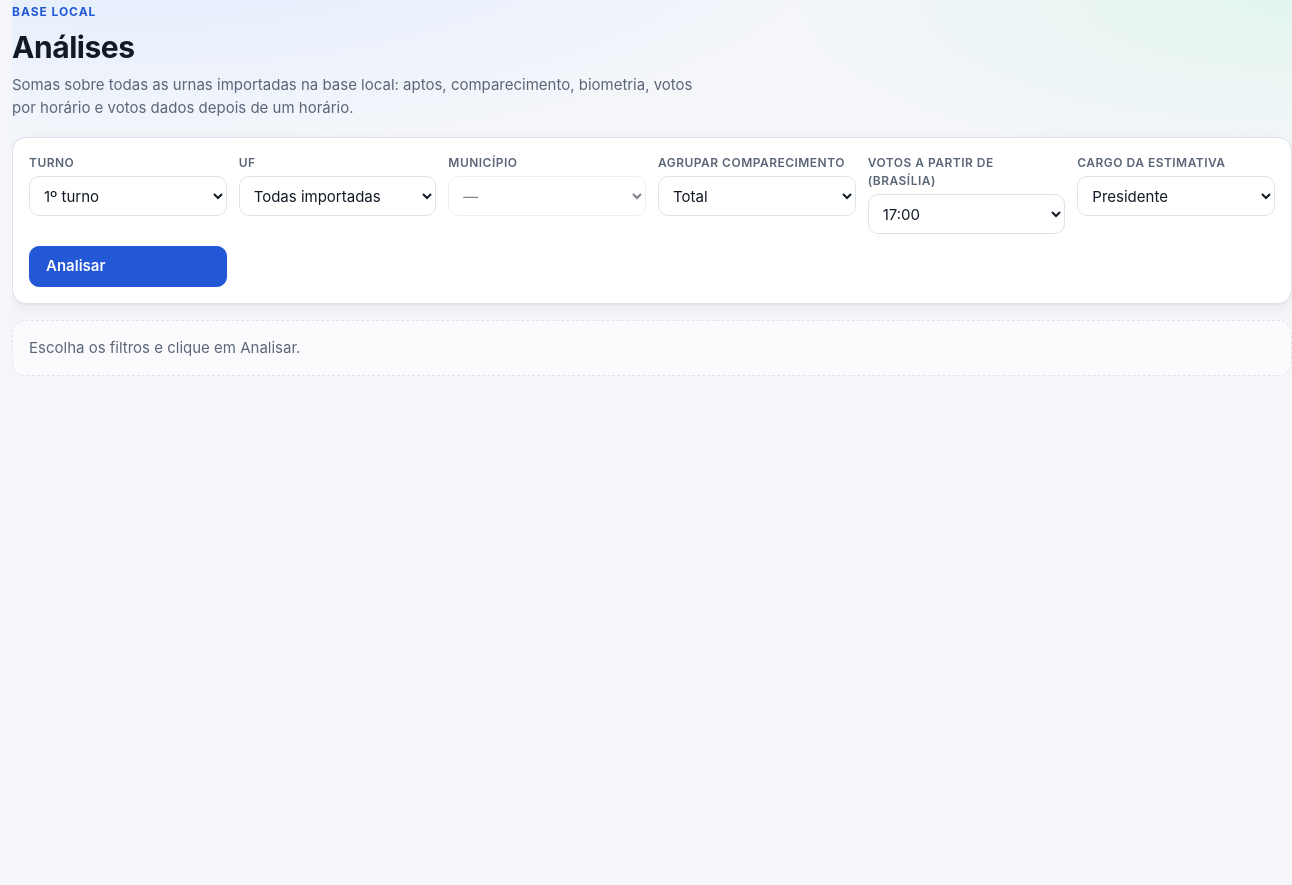
AnalysisPage › orienta a importar o pacote de urnas quando não há horários
Click the button "Analisar" at {"x": 128, "y": 266}, box [29,246,227,286]
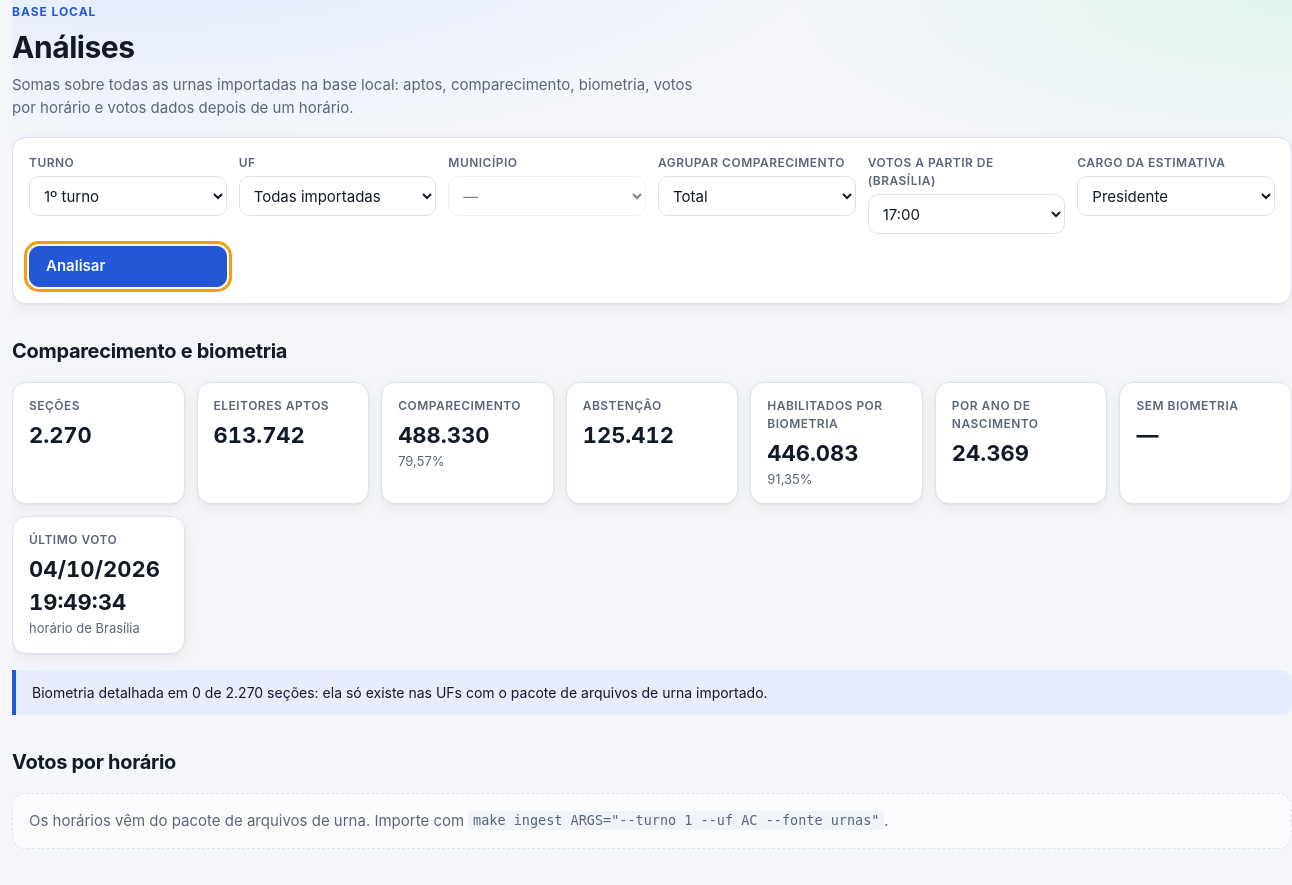
expect the text "Os horários vêm do pacote de arquivos de urna" is shown: met, box [29,810,464,830]
expect the text "Biometria detalhada em 0 de 2.270 seções" is shown: met, box [12,670,1291,714]
